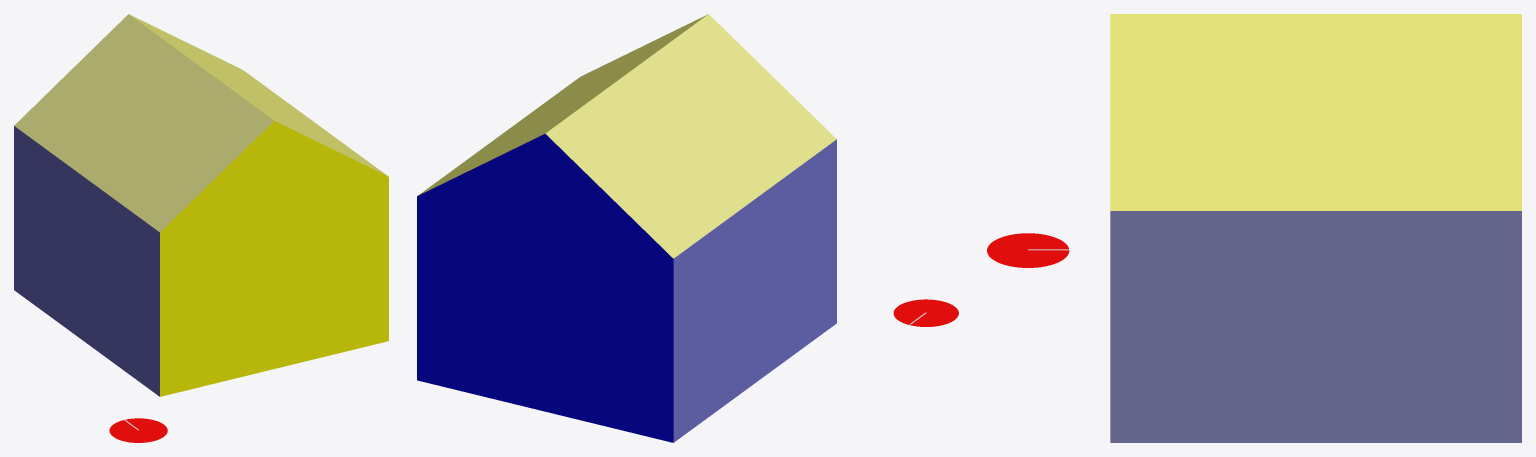
File: result.glb
The picture shows the model from 3 angles, left to right: view 1: azimuth 30°, elevation 25°; view 2: azimuth 150°, elevation 25°; view 3: azimuth 270°, elevation 25°; orthographic projection. The views are drawn at different scales.
Parts seen in each view (by area): view 1: fcaa0d87-2c25-4d2d-a74b-fa7b649839c8__undefined, 4df51b35-6f18-4958-ae6a-ca2866dbca76__undefined, 64c92c02-eebf-4541-8bd4-f25df6d51159__undefined, 34a2704e-44a3-41da-9939-4dfa042ca888__undefined, 0c4d1b7f-1b2a-485e-8b2a-c5c5ff2752a1__Circle; view 2: 4d73cc41-de43-48c7-9aee-4b6bdc4859cf__undefined, 4df51b35-6f18-4958-ae6a-ca2866dbca76__undefined, 64c92c02-eebf-4541-8bd4-f25df6d51159__undefined, 34a2704e-44a3-41da-9939-4dfa042ca888__undefined, 0c4d1b7f-1b2a-485e-8b2a-c5c5ff2752a1__Circle; view 3: 01b221f4-d80b-4a58-b9fa-fe2846cff93b__undefined, 34a2704e-44a3-41da-9939-4dfa042ca888__undefined, 0c4d1b7f-1b2a-485e-8b2a-c5c5ff2752a1__Circle.
Boxes of the visible parts, <box> form: fcaa0d87-2c25-4d2d-a74b-fa7b649839c8__undefined: <box>160,121,388,396</box>; 4df51b35-6f18-4958-ae6a-ca2866dbca76__undefined: <box>14,14,273,232</box>; 64c92c02-eebf-4541-8bd4-f25df6d51159__undefined: <box>14,126,159,396</box>; 34a2704e-44a3-41da-9939-4dfa042ca888__undefined: <box>129,14,387,175</box>; 0c4d1b7f-1b2a-485e-8b2a-c5c5ff2752a1__Circle: <box>109,418,167,442</box>; 4d73cc41-de43-48c7-9aee-4b6bdc4859cf__undefined: <box>417,133,673,442</box>; 4df51b35-6f18-4958-ae6a-ca2866dbca76__undefined: <box>545,14,836,258</box>; 64c92c02-eebf-4541-8bd4-f25df6d51159__undefined: <box>673,139,836,442</box>; 34a2704e-44a3-41da-9939-4dfa042ca888__undefined: <box>418,14,707,195</box>; 0c4d1b7f-1b2a-485e-8b2a-c5c5ff2752a1__Circle: <box>893,299,958,326</box>; 01b221f4-d80b-4a58-b9fa-fe2846cff93b__undefined: <box>1110,211,1521,442</box>; 34a2704e-44a3-41da-9939-4dfa042ca888__undefined: <box>1110,14,1521,210</box>; 0c4d1b7f-1b2a-485e-8b2a-c5c5ff2752a1__Circle: <box>987,233,1069,267</box>.
Bounding box in the file's own units: 603 × 469 × 650.
